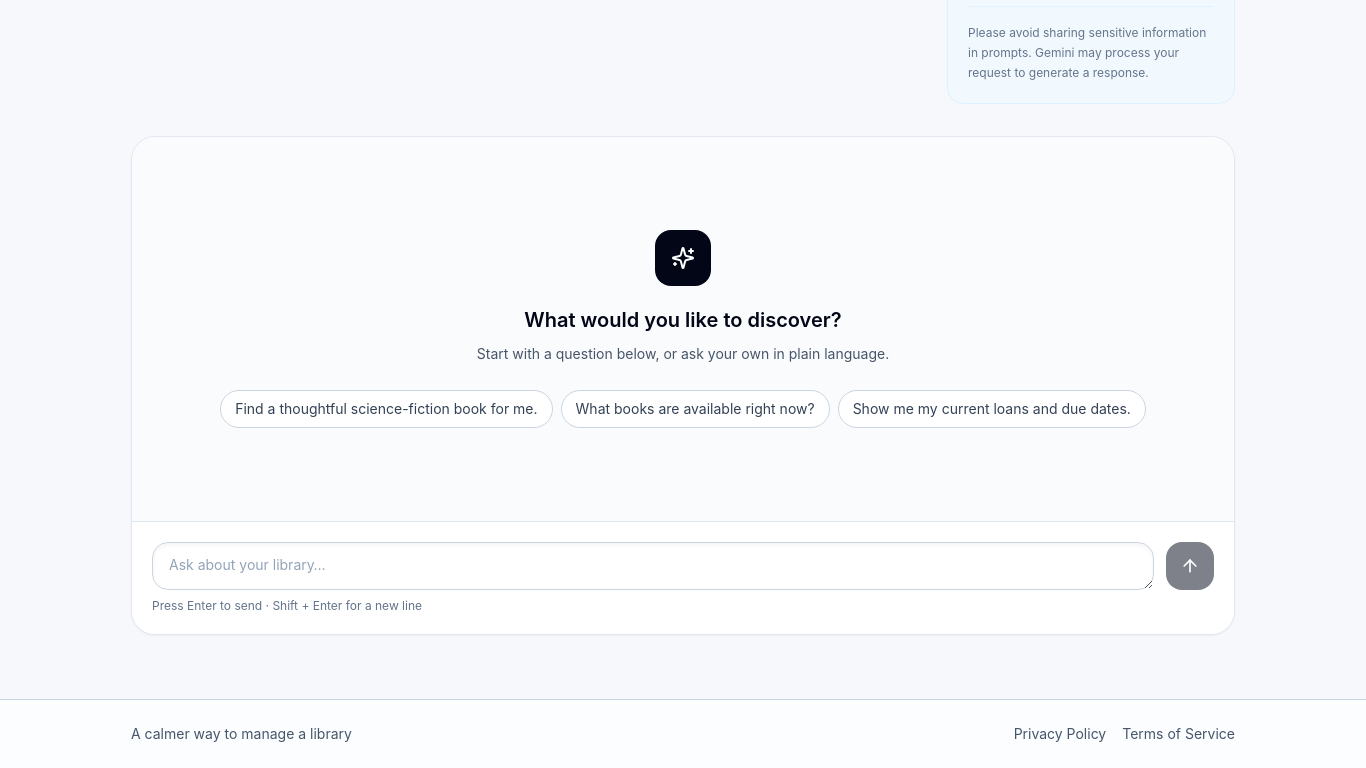
Test: assistant page › shows a safe stream error
(page scrolled)
Type "Hello" into the text box named "Ask the LibraryOS assistant". click: coordinates (653, 566)
box: [152, 542, 1154, 590]
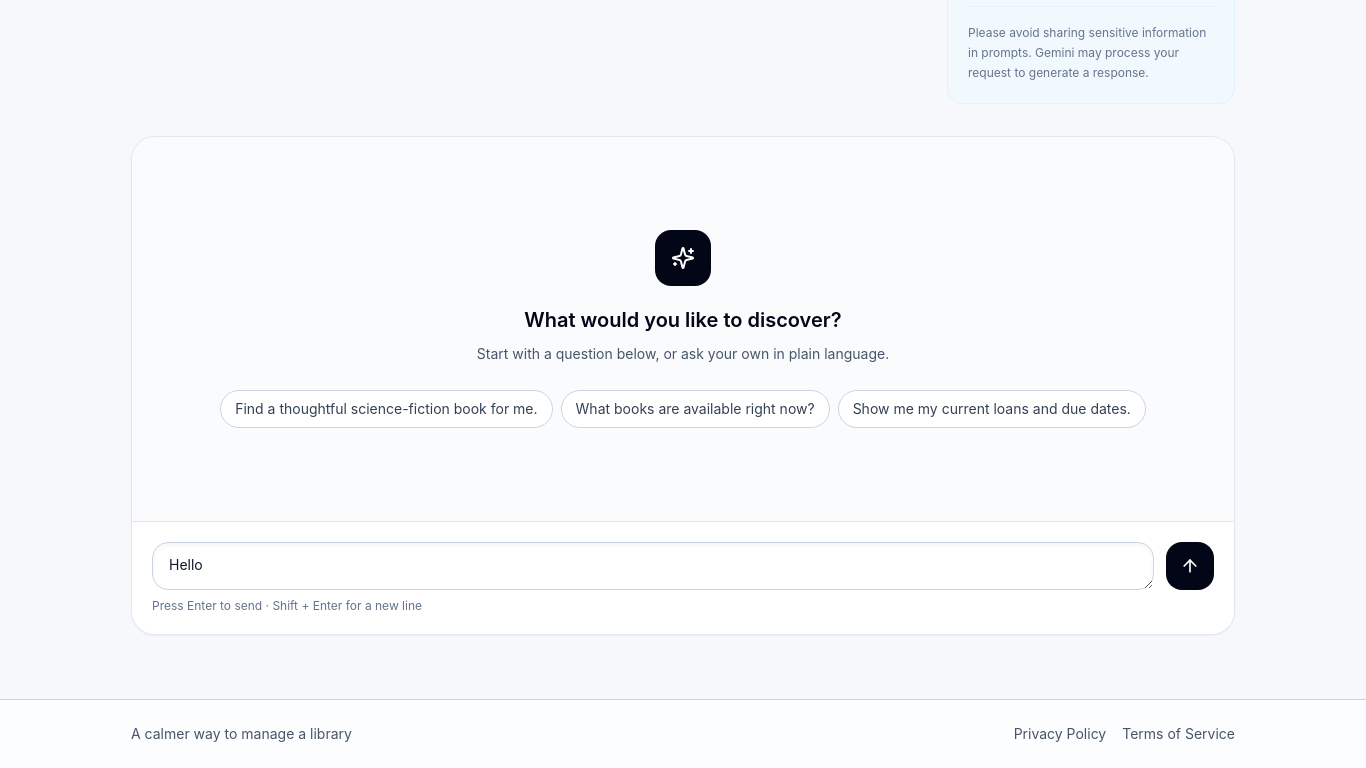
Click the button named "Send message". click: coordinates (1190, 566)
box: [1166, 542, 1214, 590]
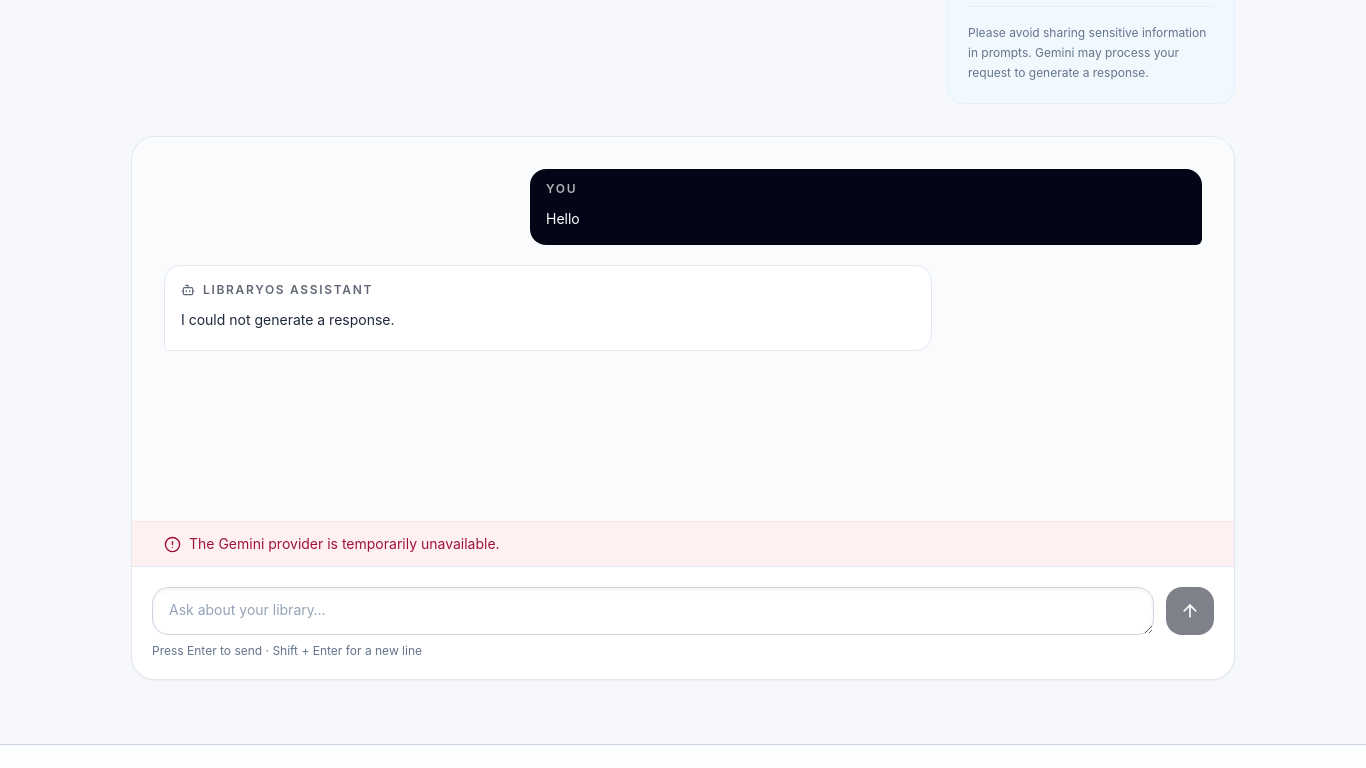
Check: the message shows "Gemini provider is temporarily unavailable.", box [189, 535, 500, 552]
